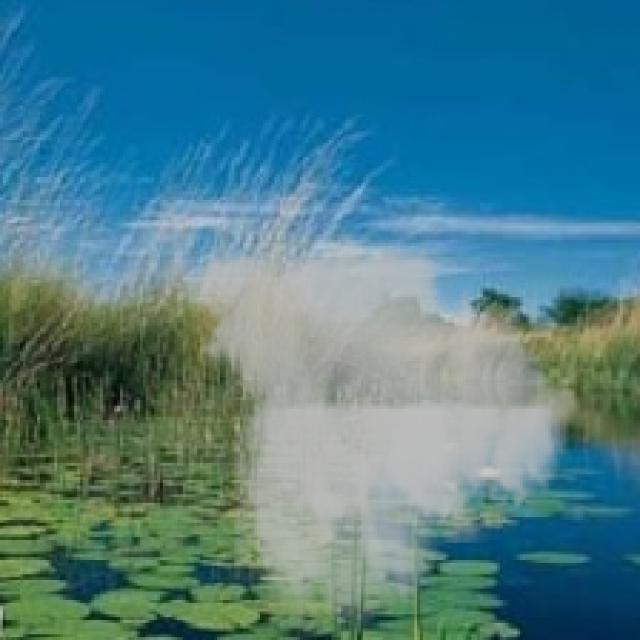Smoke: (172, 225, 592, 638)
